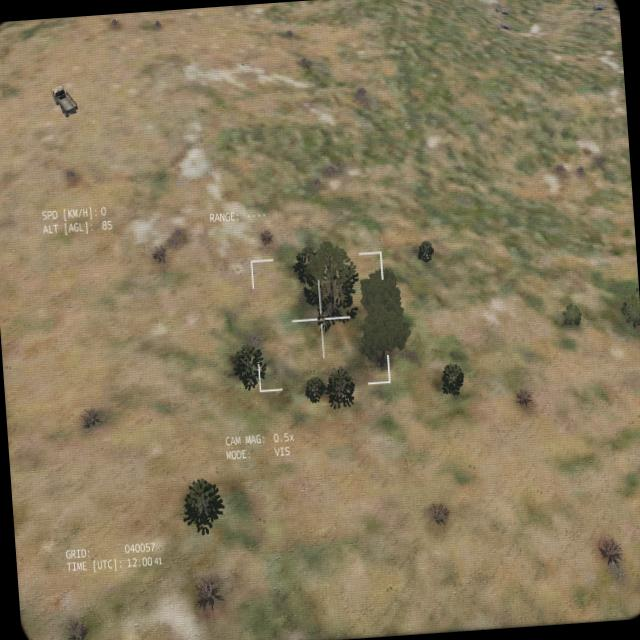truck: (50, 82, 78, 119)
